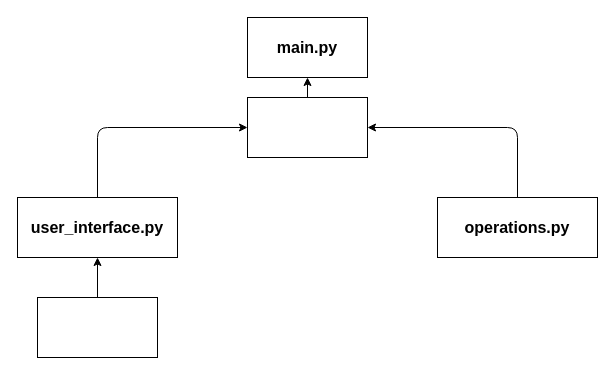
The diagram is 615 pixels wide and 375 high, and some of its shapes have lost their labels. Here are the shapes that lost their labels. From the top down, the centre of each, then its label:
At point (307, 127): "controller.py".
At point (97, 327): "check.py".
